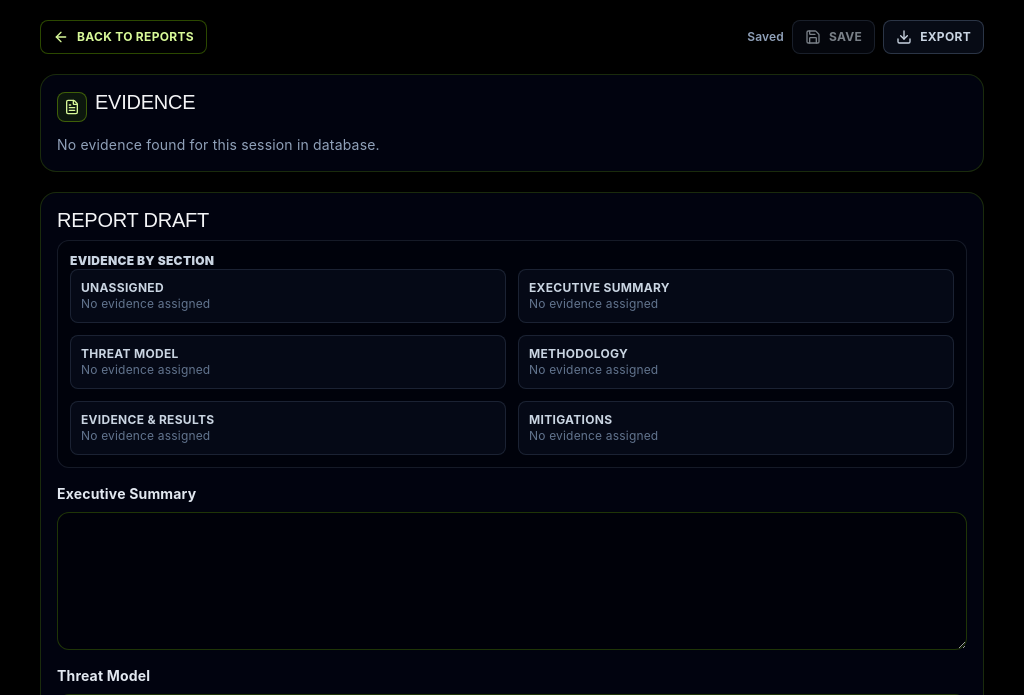
Test: SessionReportPage evidence selection › shows a failed save without repeatedly retrying the same snapshot
The image size is (1024, 695).
Check: the message reads "Saved", box [747, 29, 784, 44]
Type "Unsaved edit" into the text box labelled "Executive Summary" at (512, 581), box [57, 512, 967, 650]
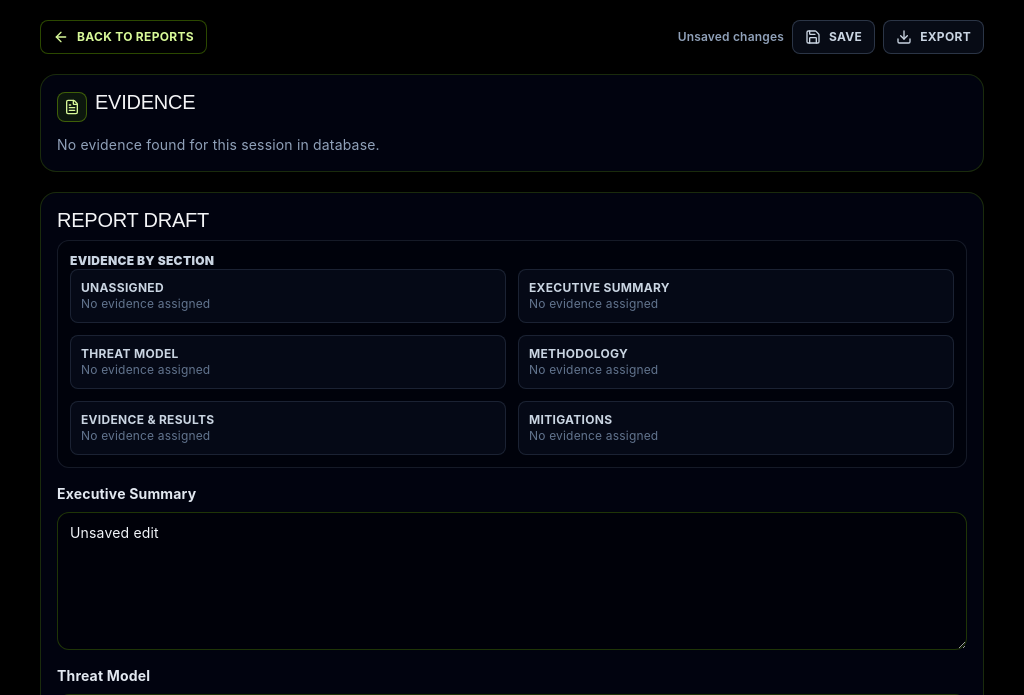
Click the button "Save" at (834, 37), box [792, 20, 875, 54]
Wait 1700 ms
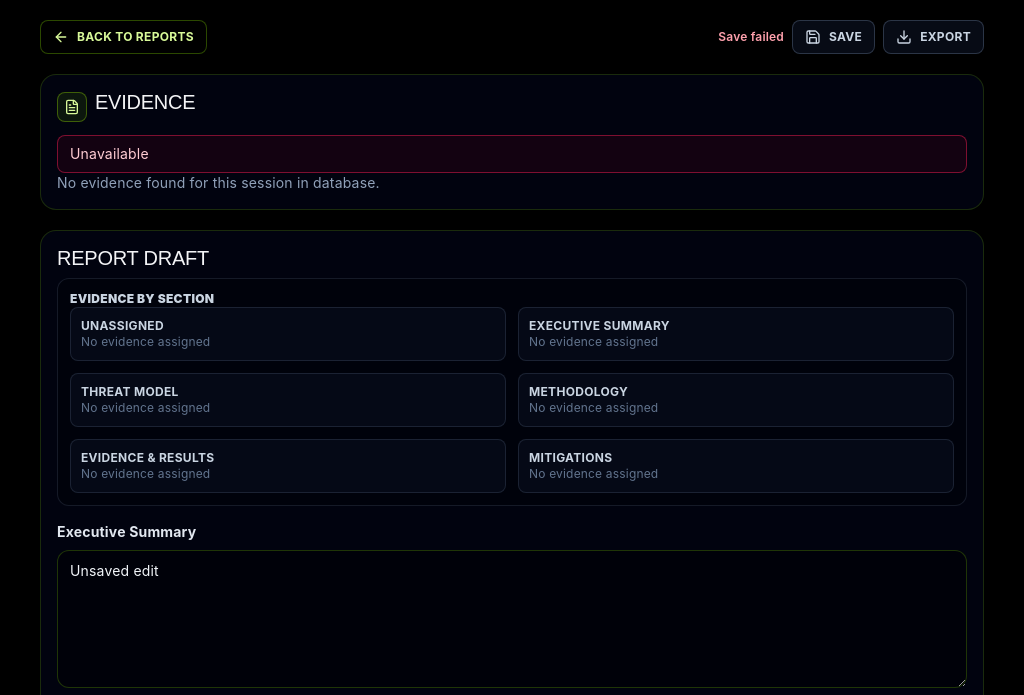
Check: the message reads "Save failed", box [718, 29, 784, 44]
Check: the text "Unavailable" is shown, box [57, 135, 967, 173]
